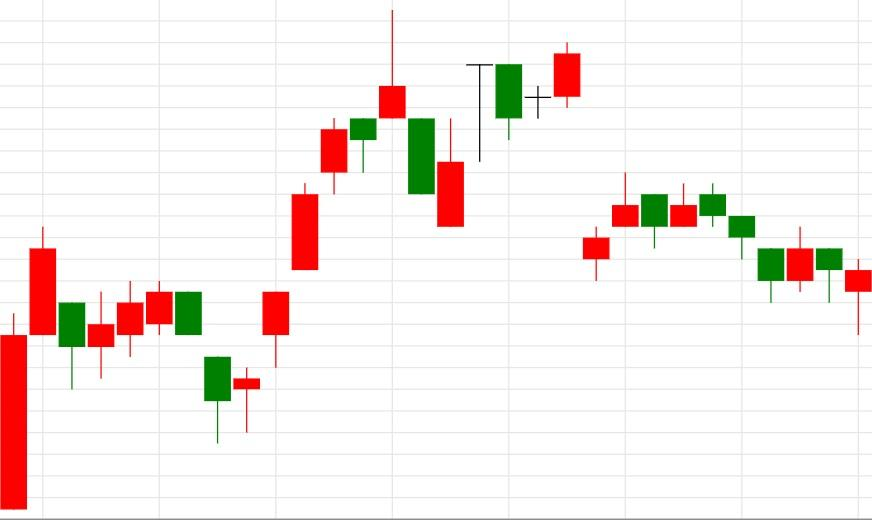shooting_star_fall: (204, 10, 407, 443)
three_black_crows_fall: (583, 172, 786, 304)
